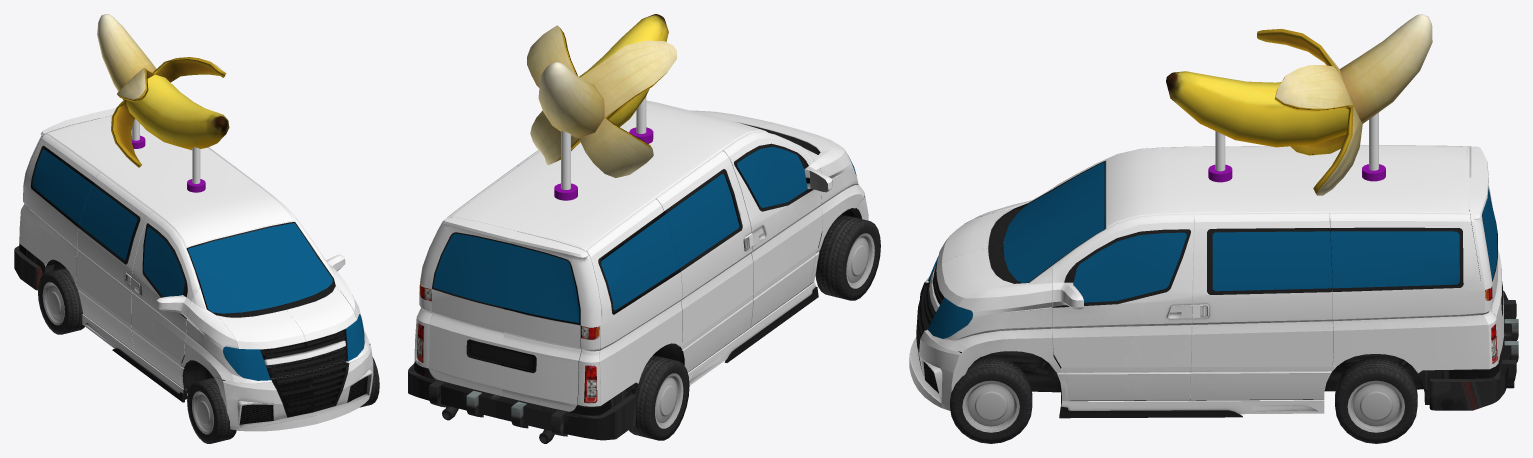
Rendered from Car34.fbx.
3 views of the same model, side by side, from view 1: azimuth 30°, elevation 25°; view 2: azimuth 150°, elevation 25°; view 3: azimuth 270°, elevation 25° (orthographic). The views are drawn at different scales.
Visible parts, largest first — view 1: Roof, Body, Banana_Peeled, Front_Glass_, BumperF, DC3_Van_2_Door_MR, DC3_Van_2_Door_FR, Hood, DC3_Van_2_Glass_BR, DC3_Van_2_Glass_MR, WingBack, DC3_Van_2_Glass_FR (+11 smaller); view 2: Trunk, Roof, Banana_Peeled, DC3_Van_2_Door_MR, Body, DC3_Van_2_Door_FR, Back_Glass_, BumperB, DC3_Van_2_Glass_BR, DC3_Van_2_Glass_MR, WingBack, Tire_1 (+9 smaller); view 3: Roof, Banana_Peeled, DC3_Van_2_Door_MR_1, Body, DC3_Van_2_Door_FR_1, WingBack_1, DC3_Van_2_Glass_BR_1, Front_Glass_, DC3_Van_2_Glass_MR_1, DC3_Van_2_Glass_FR_1, BumperB, DC3_Van_2_Sidepanel_L_2 (+11 smaller).
Part boxes in pixels (left/top/right/bottom): Roof: left=46, top=115, right=294, bottom=248; Body: left=23, top=134, right=370, bottom=393; Banana_Peeled: left=97, top=14, right=229, bottom=167; Front_Glass_: left=187, top=223, right=332, bottom=313; BumperF: left=214, top=345, right=373, bottom=431; DC3_Van_2_Door_MR: left=75, top=172, right=152, bottom=351; DC3_Van_2_Door_FR: left=130, top=212, right=199, bottom=386; Hood: left=216, top=286, right=356, bottom=349; DC3_Van_2_Glass_BR: left=32, top=149, right=92, bottom=224; DC3_Van_2_Glass_MR: left=79, top=185, right=137, bottom=260; WingBack: left=19, top=204, right=78, bottom=284; DC3_Van_2_Glass_FR: left=143, top=227, right=184, bottom=297; Trunk: left=420, top=217, right=601, bottom=411; Roof: left=450, top=100, right=767, bottom=250; Banana_Peeled: left=527, top=14, right=676, bottom=177; DC3_Van_2_Door_MR: left=656, top=151, right=753, bottom=371; Body: left=414, top=123, right=864, bottom=406; DC3_Van_2_Door_FR: left=722, top=131, right=822, bottom=327; Back_Glass_: left=433, top=233, right=579, bottom=322; BumperB: left=408, top=361, right=638, bottom=443; DC3_Van_2_Glass_BR: left=601, top=215, right=679, bottom=310; DC3_Van_2_Glass_MR: left=665, top=174, right=738, bottom=267; WingBack: left=599, top=301, right=682, bottom=405; Tire_1: left=815, top=215, right=880, bottom=300; Roof: left=1104, top=146, right=1469, bottom=228; Banana_Peeled: left=1166, top=14, right=1432, bottom=195; DC3_Van_2_Door_MR_1: left=1190, top=213, right=1336, bottom=400; Body: left=924, top=145, right=1498, bottom=403; DC3_Van_2_Door_FR_1: left=1052, top=214, right=1194, bottom=400; WingBack_1: left=1333, top=314, right=1489, bottom=373; DC3_Van_2_Glass_BR_1: left=1330, top=231, right=1459, bottom=288; Front_Glass_: left=1003, top=162, right=1104, bottom=283; DC3_Van_2_Glass_MR_1: left=1212, top=231, right=1332, bottom=291; DC3_Van_2_Glass_FR_1: left=1073, top=232, right=1186, bottom=302; BumperB: left=1418, top=290, right=1518, bottom=410; DC3_Van_2_Sidepanel_L_2: left=1059, top=399, right=1324, bottom=418.
Size of the model in its own units: 317 by 469 by 695.
